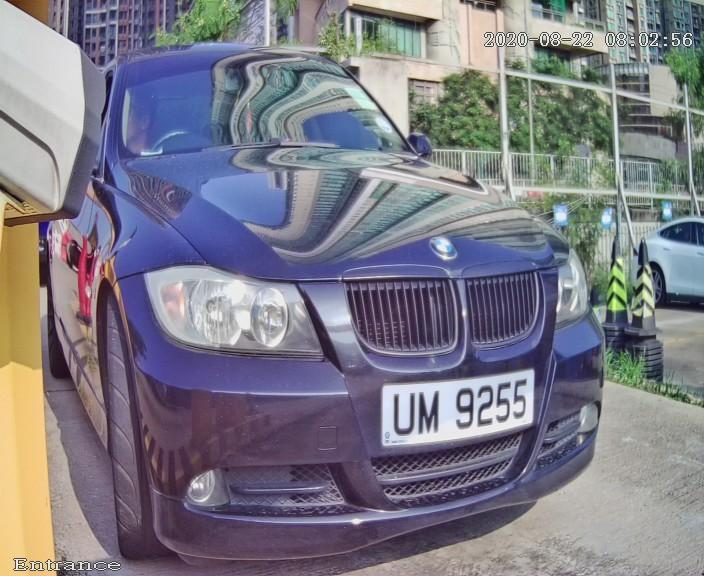Car: (16, 8, 645, 576)
License Plate: (371, 358, 544, 456)
